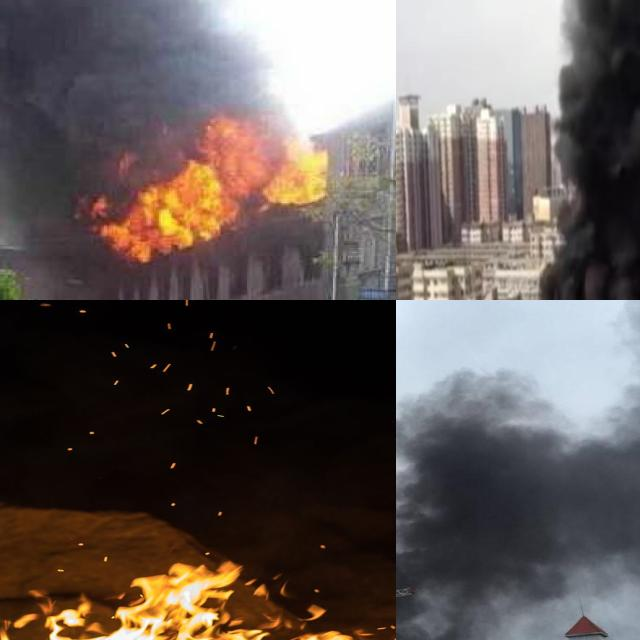fire: (85, 116, 328, 260), (0, 555, 396, 640)
smoke: (396, 300, 640, 640), (0, 0, 247, 161), (523, 0, 640, 300)
